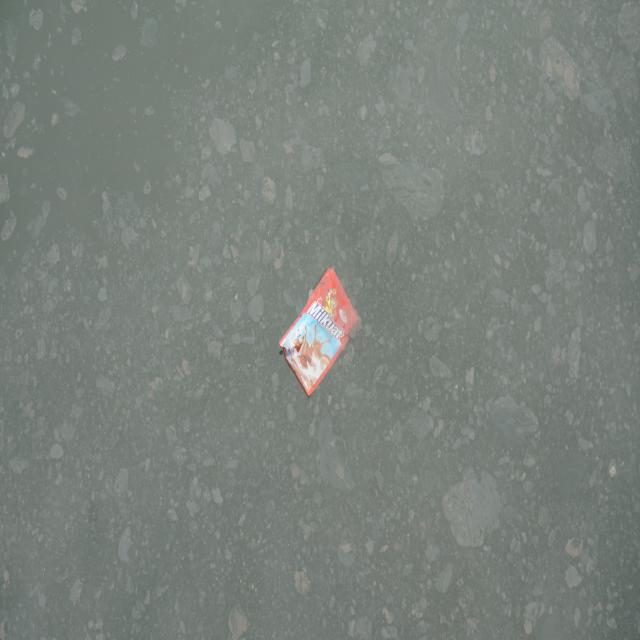Bungkus Minuman: (279, 265, 364, 399)
